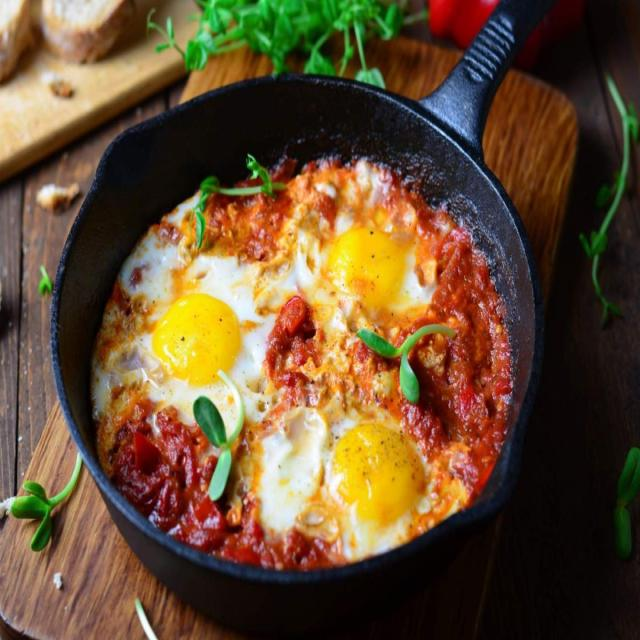eggs: (137, 225, 257, 402), (297, 404, 422, 548), (308, 191, 419, 338)
